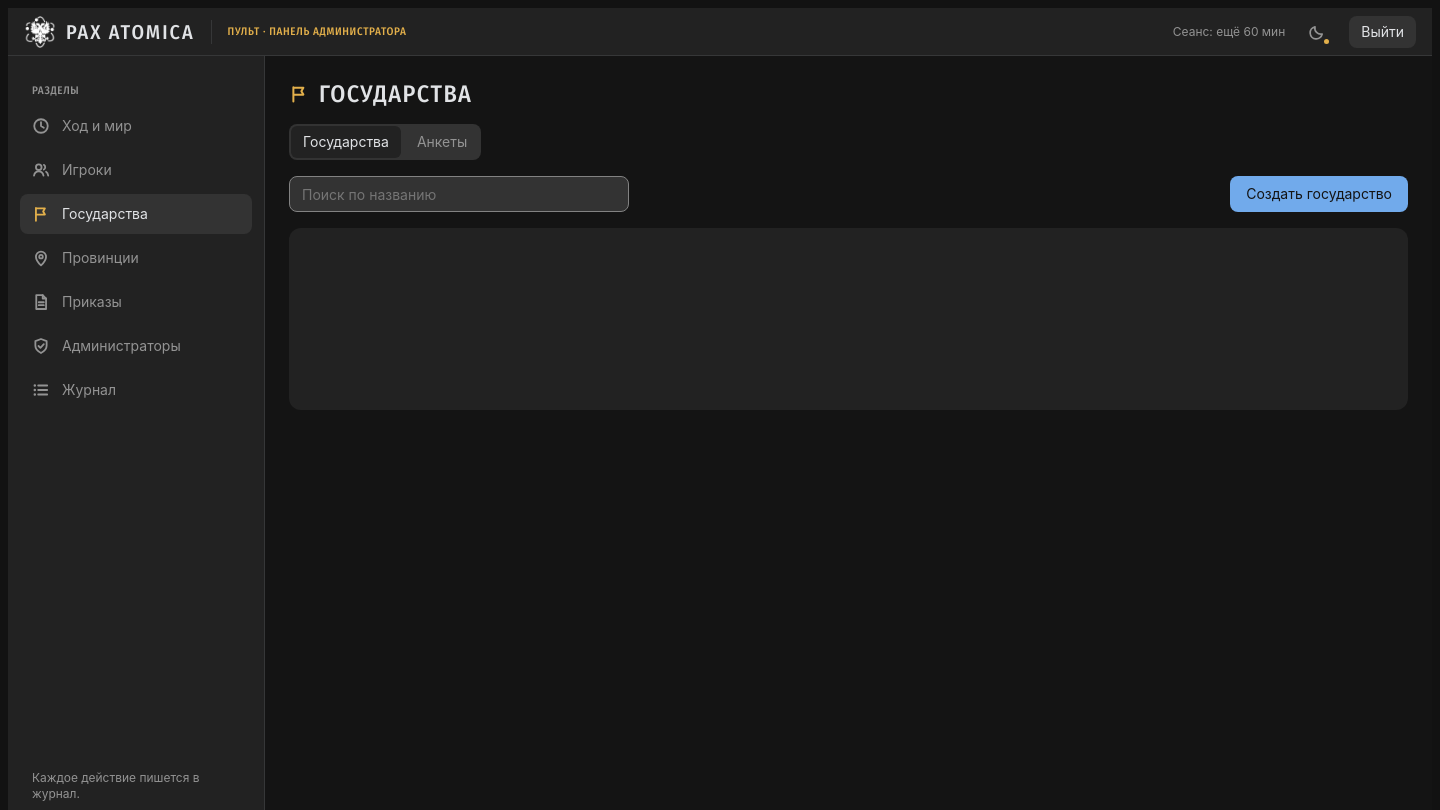
Test: a 401 from the list ends the session through the frame
Click the button with test id "tab-applications": (442, 142) [405,126,479,158]
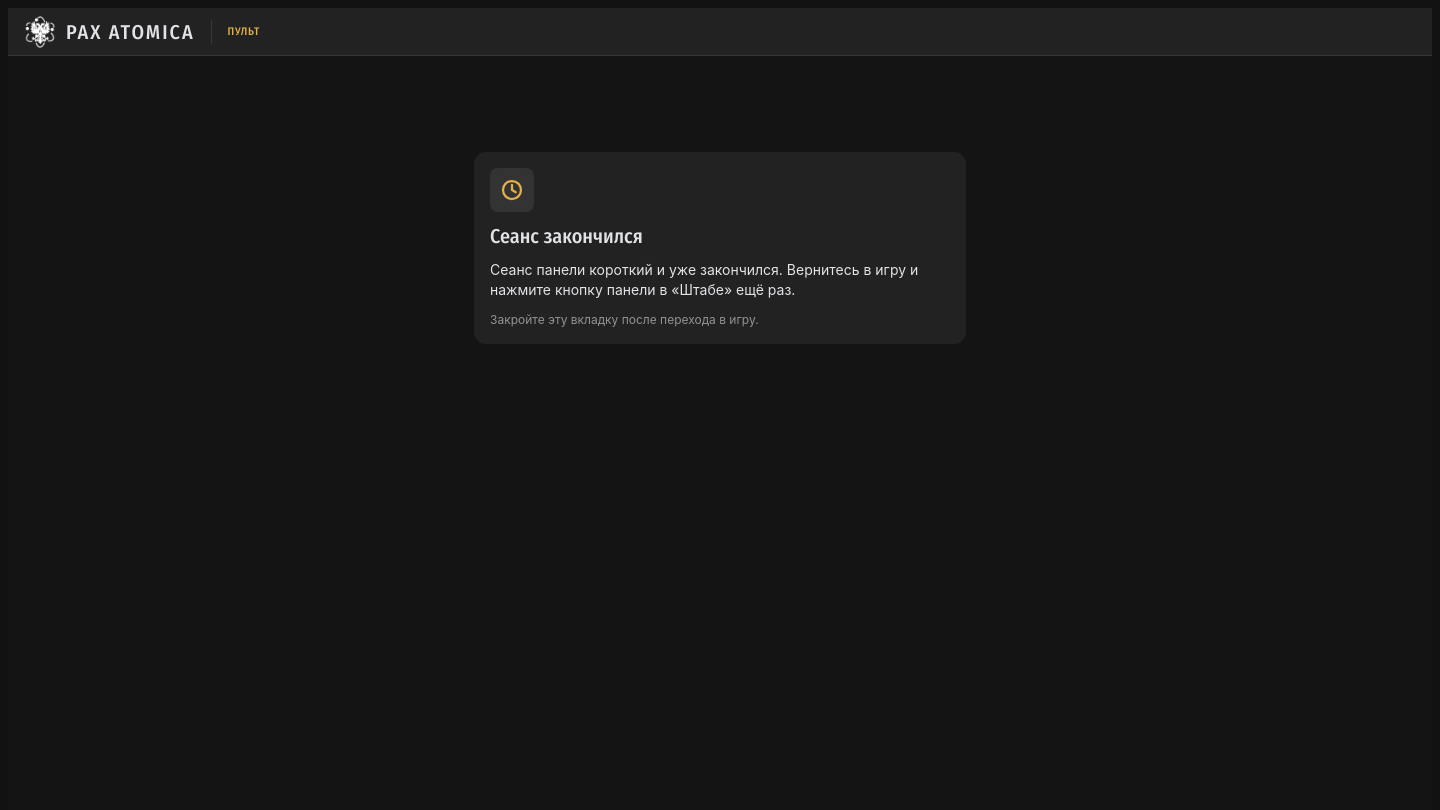
expect the heading "Сеанс закончился" is shown: met, box [490,224,643,248]
